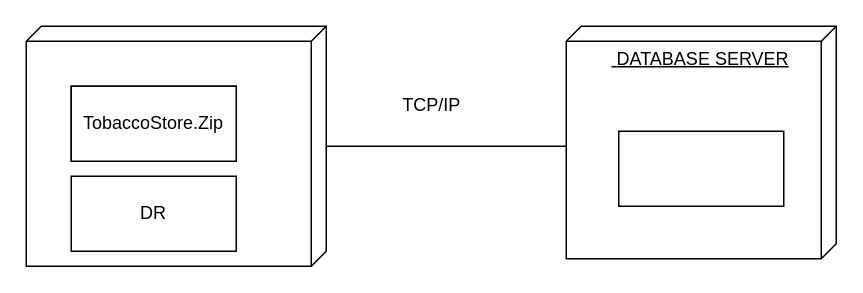
Some shapes in this 863 by 293 pixel diagram are drawn without their labels. The box of each missing label's shape, as (x1, y1, x2, y2) in pixels:
MySQL Server: (617, 130, 784, 206)
Product: (25, 25, 326, 266)
